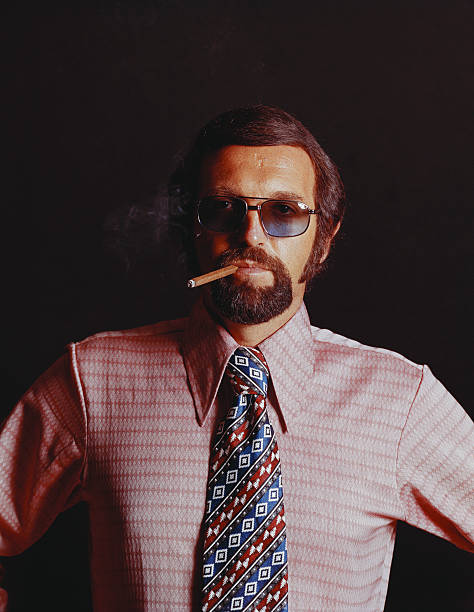cigarette: (185, 266, 237, 289)
